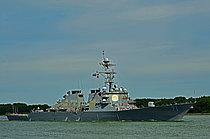MIL_Ship: (5, 50, 193, 123)
